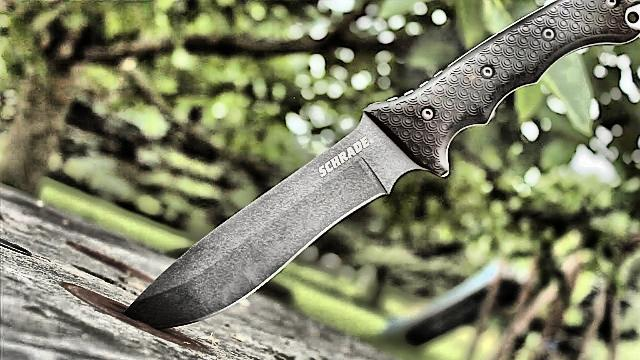knife: (118, 83, 460, 329)
